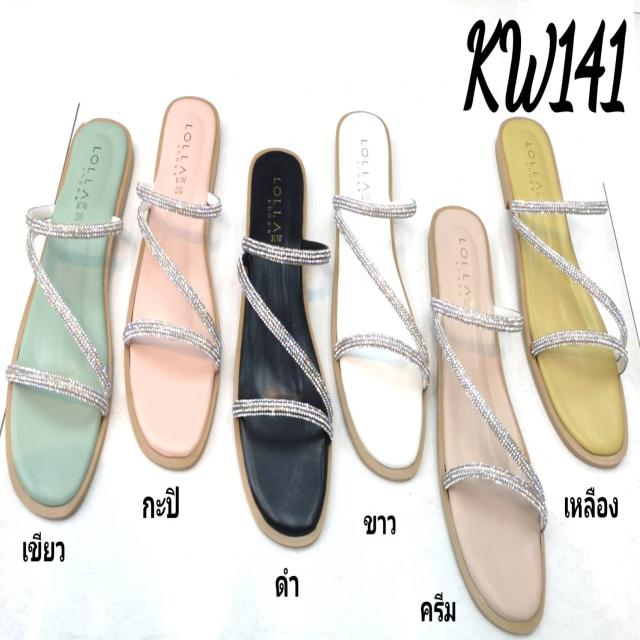black: (237, 155, 326, 541)
cream: (434, 204, 542, 624)
green: (6, 110, 128, 520)
kapi: (124, 95, 220, 456)
white: (331, 111, 420, 480)
yellow: (505, 118, 626, 455)
